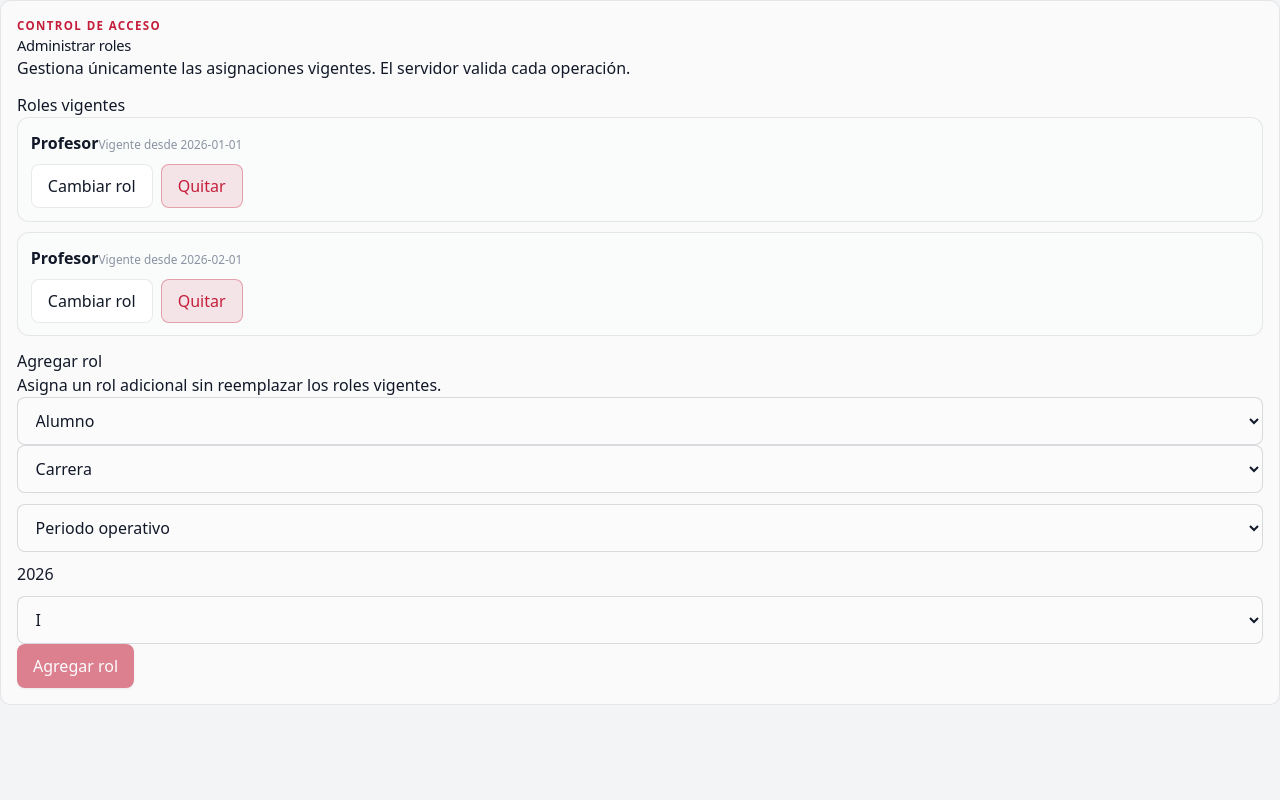
Scenario: PersonRolesPanel › muestra el mensaje específico devuelto por el backend
The image size is (1280, 800).
Step 1. Click the button "Quitar" below "2026-01-01" → (202, 186), box top-left (161, 164), bottom-right (243, 208)
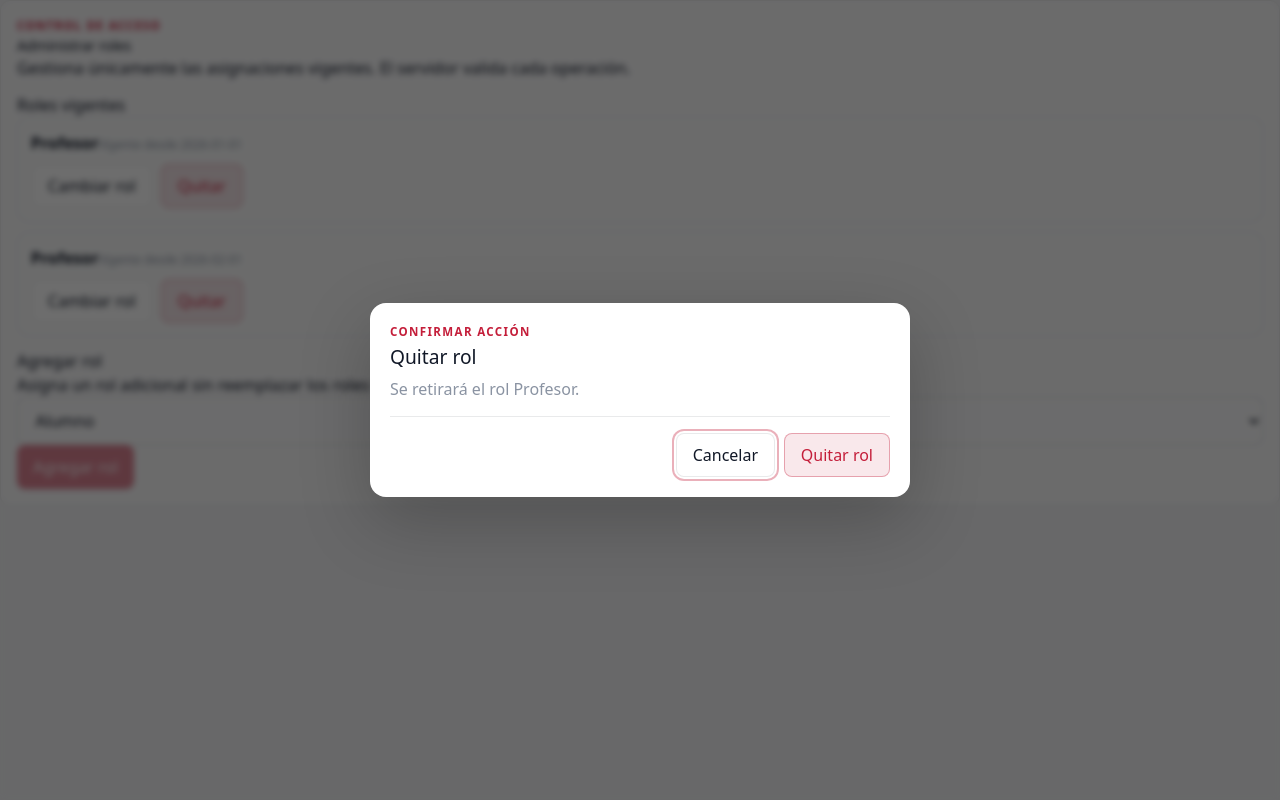
Step 2. Click the button "Quitar rol" → (837, 455), box top-left (784, 433), bottom-right (890, 477)
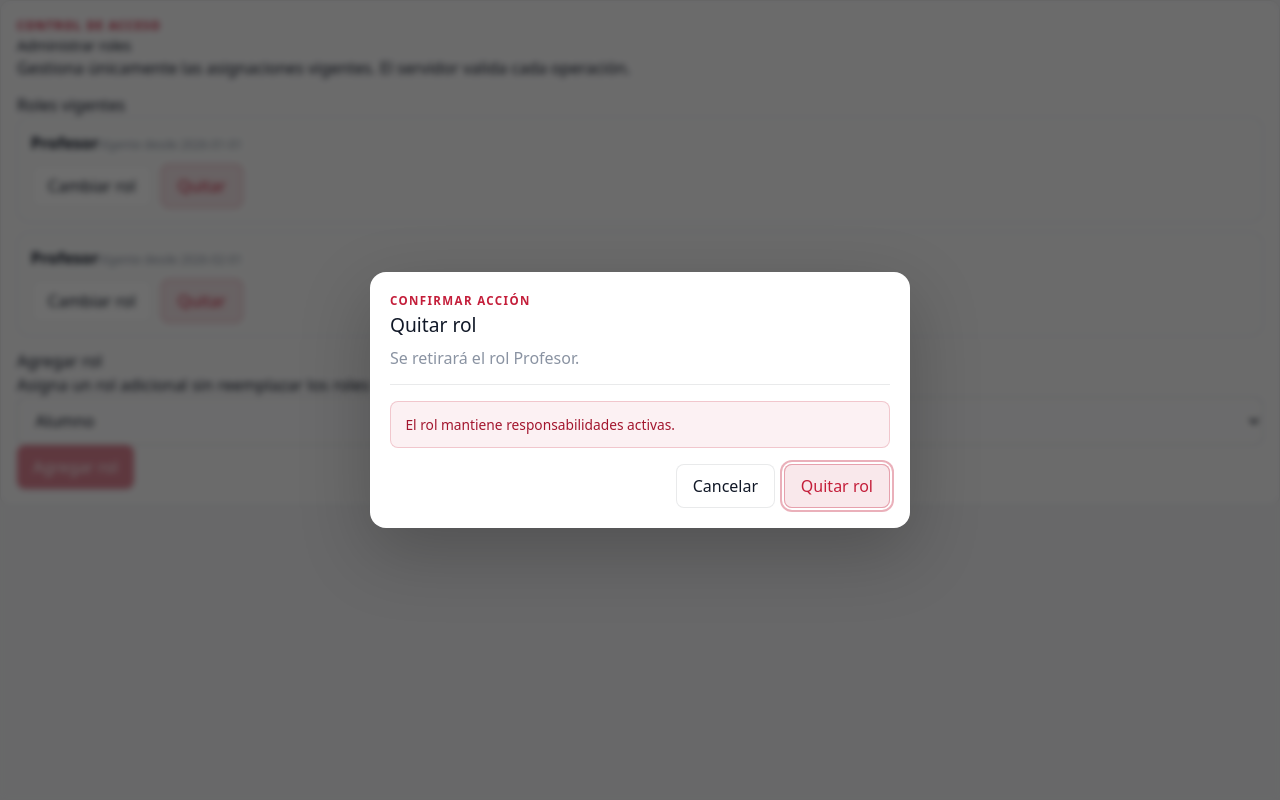
Expected: the message reads "El rol mantiene responsabilidades activas.", top-left (405, 415), bottom-right (675, 434)
